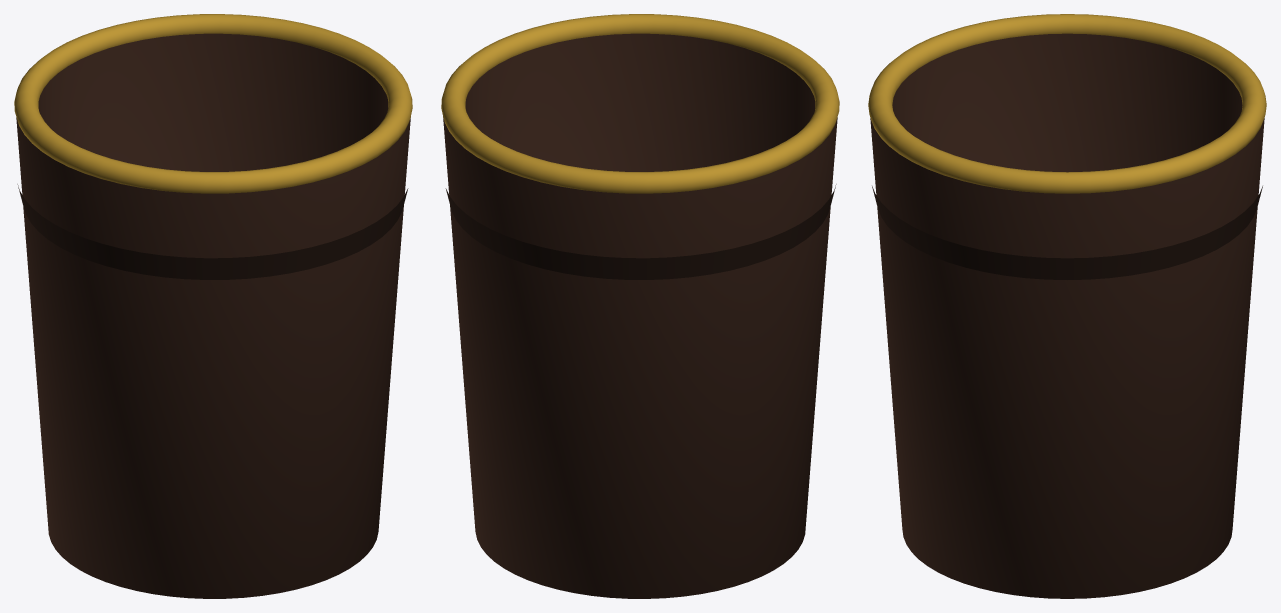
Rendered from dice-cup.glb.
3 views of the same model, side by side, from view 1: azimuth 30°, elevation 25°; view 2: azimuth 150°, elevation 25°; view 3: azimuth 270°, elevation 25° (orthographic).
Visible parts, largest first — view 1: cup_body, cup_rim, cup_band; view 2: cup_body, cup_rim, cup_band; view 3: cup_body, cup_rim, cup_band.
Boxes of the visible parts, x1=… form: cup_body: x1=16, y1=33, x2=410, y2=598; cup_rim: x1=14, y1=14, x2=412, y2=193; cup_band: x1=17, y1=184, x2=408, y2=279; cup_body: x1=443, y1=33, x2=837, y2=598; cup_rim: x1=441, y1=14, x2=839, y2=193; cup_band: x1=445, y1=184, x2=836, y2=279; cup_body: x1=870, y1=33, x2=1264, y2=598; cup_rim: x1=868, y1=14, x2=1266, y2=193; cup_band: x1=872, y1=186, x2=1262, y2=279.
Bounding box in the file's own units: 0.0724 × 0.0872 × 0.0724.
